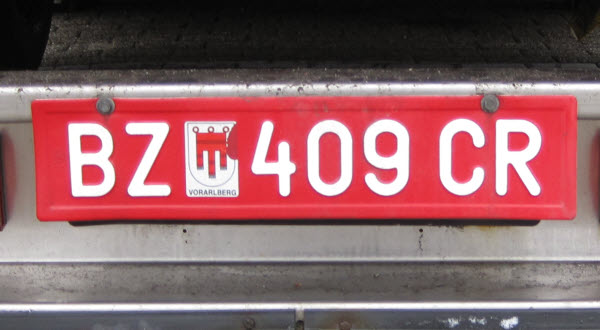license_plate: (31, 95, 579, 220)
